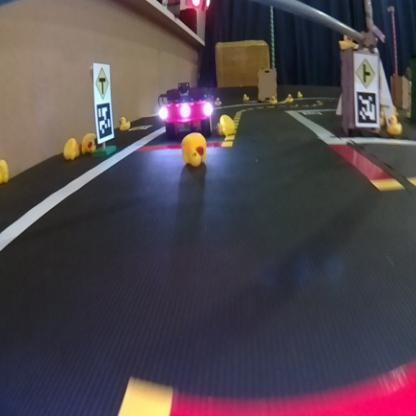duckie: (176, 132, 212, 168), (58, 130, 84, 165), (214, 107, 236, 136), (116, 110, 135, 140)
duckiebot: (154, 68, 220, 132)
